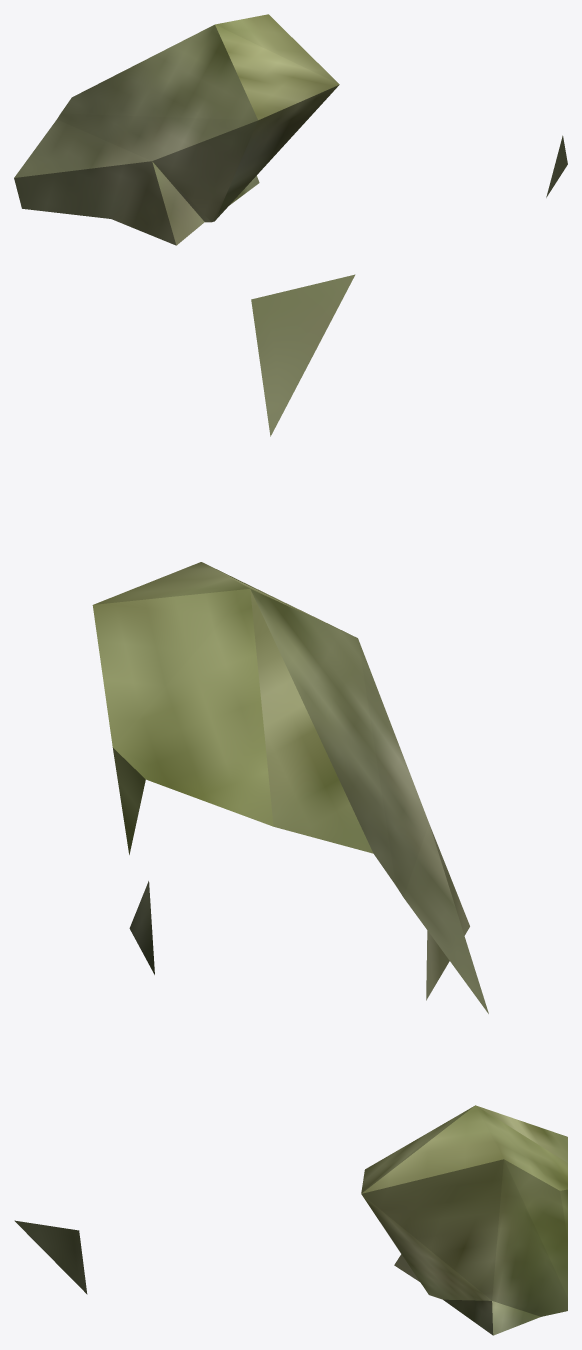
The picture shows the model from 3 angles, top to bottom: view 1: azimuth 30°, elevation 25°; view 2: azimuth 150°, elevation 25°; view 3: azimuth 270°, elevation 25°; orthographic projection. The views are drawn at different scales.
Size of the model in its own units: 0.2771 by 0.1403 by 0.3501.
Materials: 1 (1 with a texture image).
